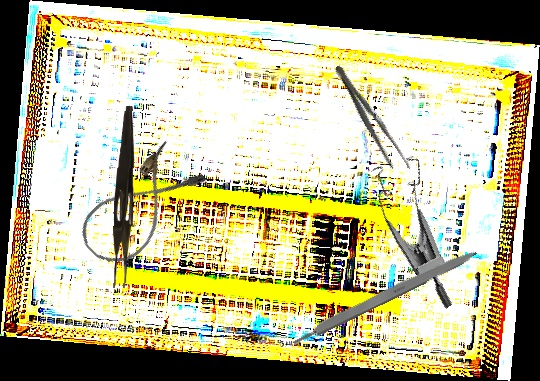Cannula: (70, 137, 211, 277)
Dressing Forceps: (327, 61, 414, 178), (112, 105, 136, 289)
Scalpel Handle: (289, 244, 479, 348)
Speculum: (346, 143, 504, 310)
